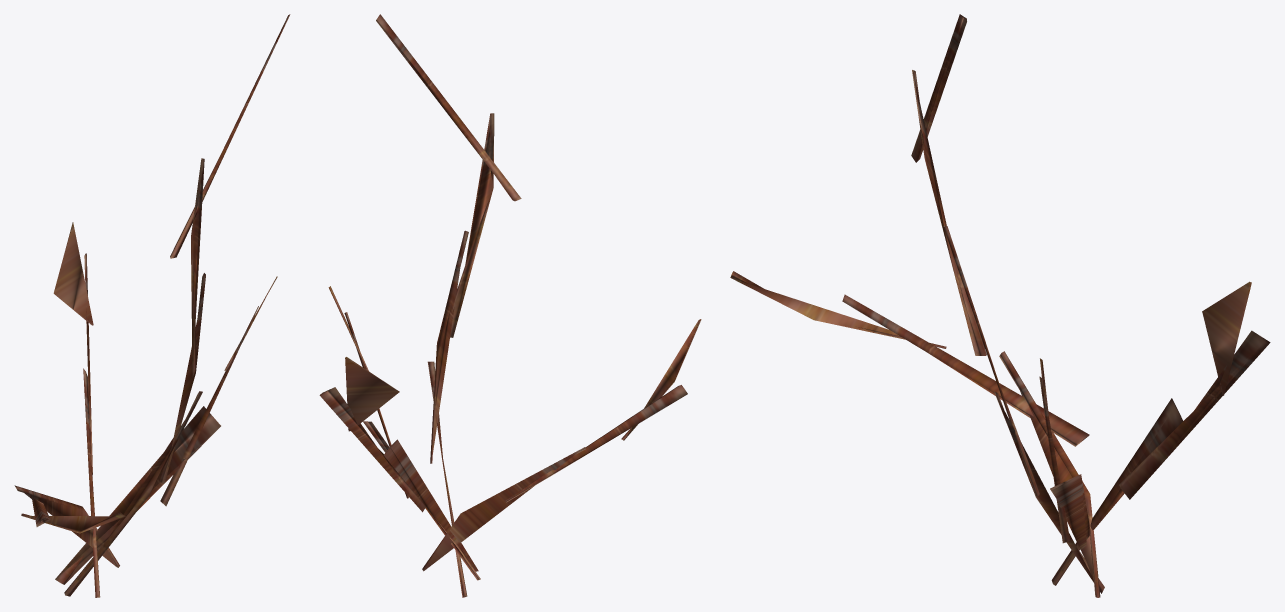
File: shrub_b_lod1.glb
3 renders of one model, left to right at view 1: azimuth 30°, elevation 25°; view 2: azimuth 150°, elevation 25°; view 3: azimuth 270°, elevation 25°, orthographic. The views are drawn at different scales.
Visible parts, largest first — view 1: leaf; view 2: leaf; view 3: leaf.
Boxes of the visible parts, x1=… form: leaf: x1=14, y1=14, x2=290, y2=597; leaf: x1=319, y1=14, x2=701, y2=597; leaf: x1=730, y1=14, x2=1270, y2=597.
Bounding box in the file's own units: 0.8729 × 1.5 × 1.1.
Materials: 1 (1 with a texture image).
